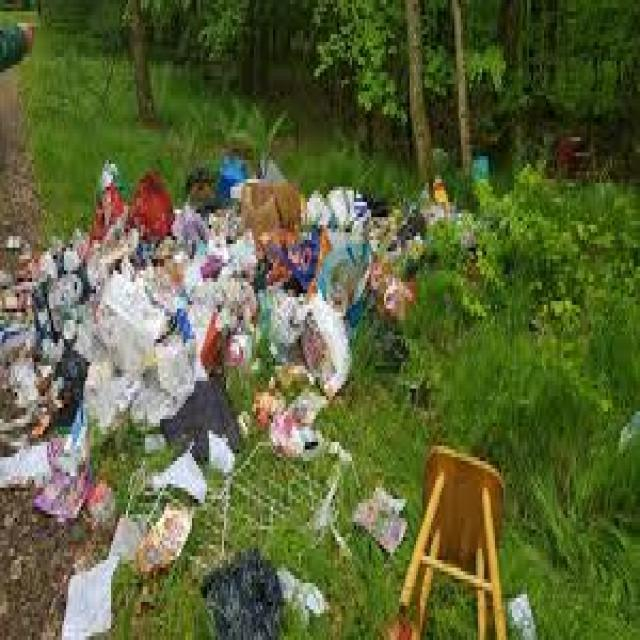garbage: (2, 157, 508, 640)
